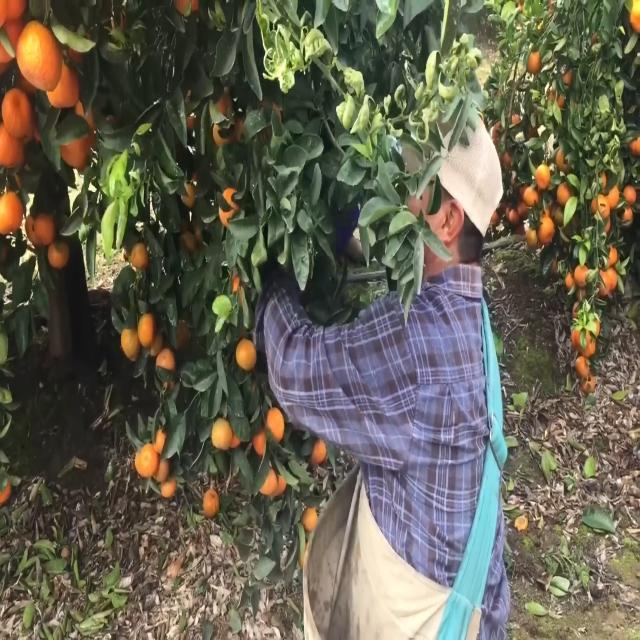Jeruk Sudah Matang: (14, 21, 66, 96), (0, 83, 34, 144), (214, 184, 244, 234), (0, 190, 24, 239), (152, 344, 180, 386), (136, 436, 162, 480), (234, 334, 258, 376), (262, 403, 286, 443), (130, 240, 152, 276), (138, 312, 158, 350), (536, 212, 556, 249), (34, 210, 54, 245), (309, 436, 328, 472), (596, 264, 614, 298), (534, 160, 551, 194), (524, 46, 544, 74), (299, 506, 319, 534), (574, 258, 591, 288), (622, 178, 636, 208), (556, 182, 572, 208), (604, 186, 620, 211), (603, 244, 622, 264)
